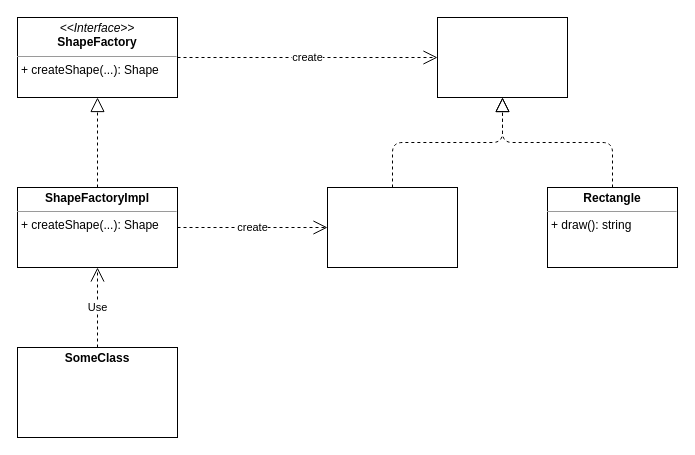
Some shapes in this 695 by 455 pixel diagram are drawn without their labels. The box of each missing label's shape, as (x1, y1, x2, y2) in pixels:
<<Interface>> Shape + draw(): string: (436, 16, 568, 98)
Circle + draw(): string: (326, 186, 458, 268)
